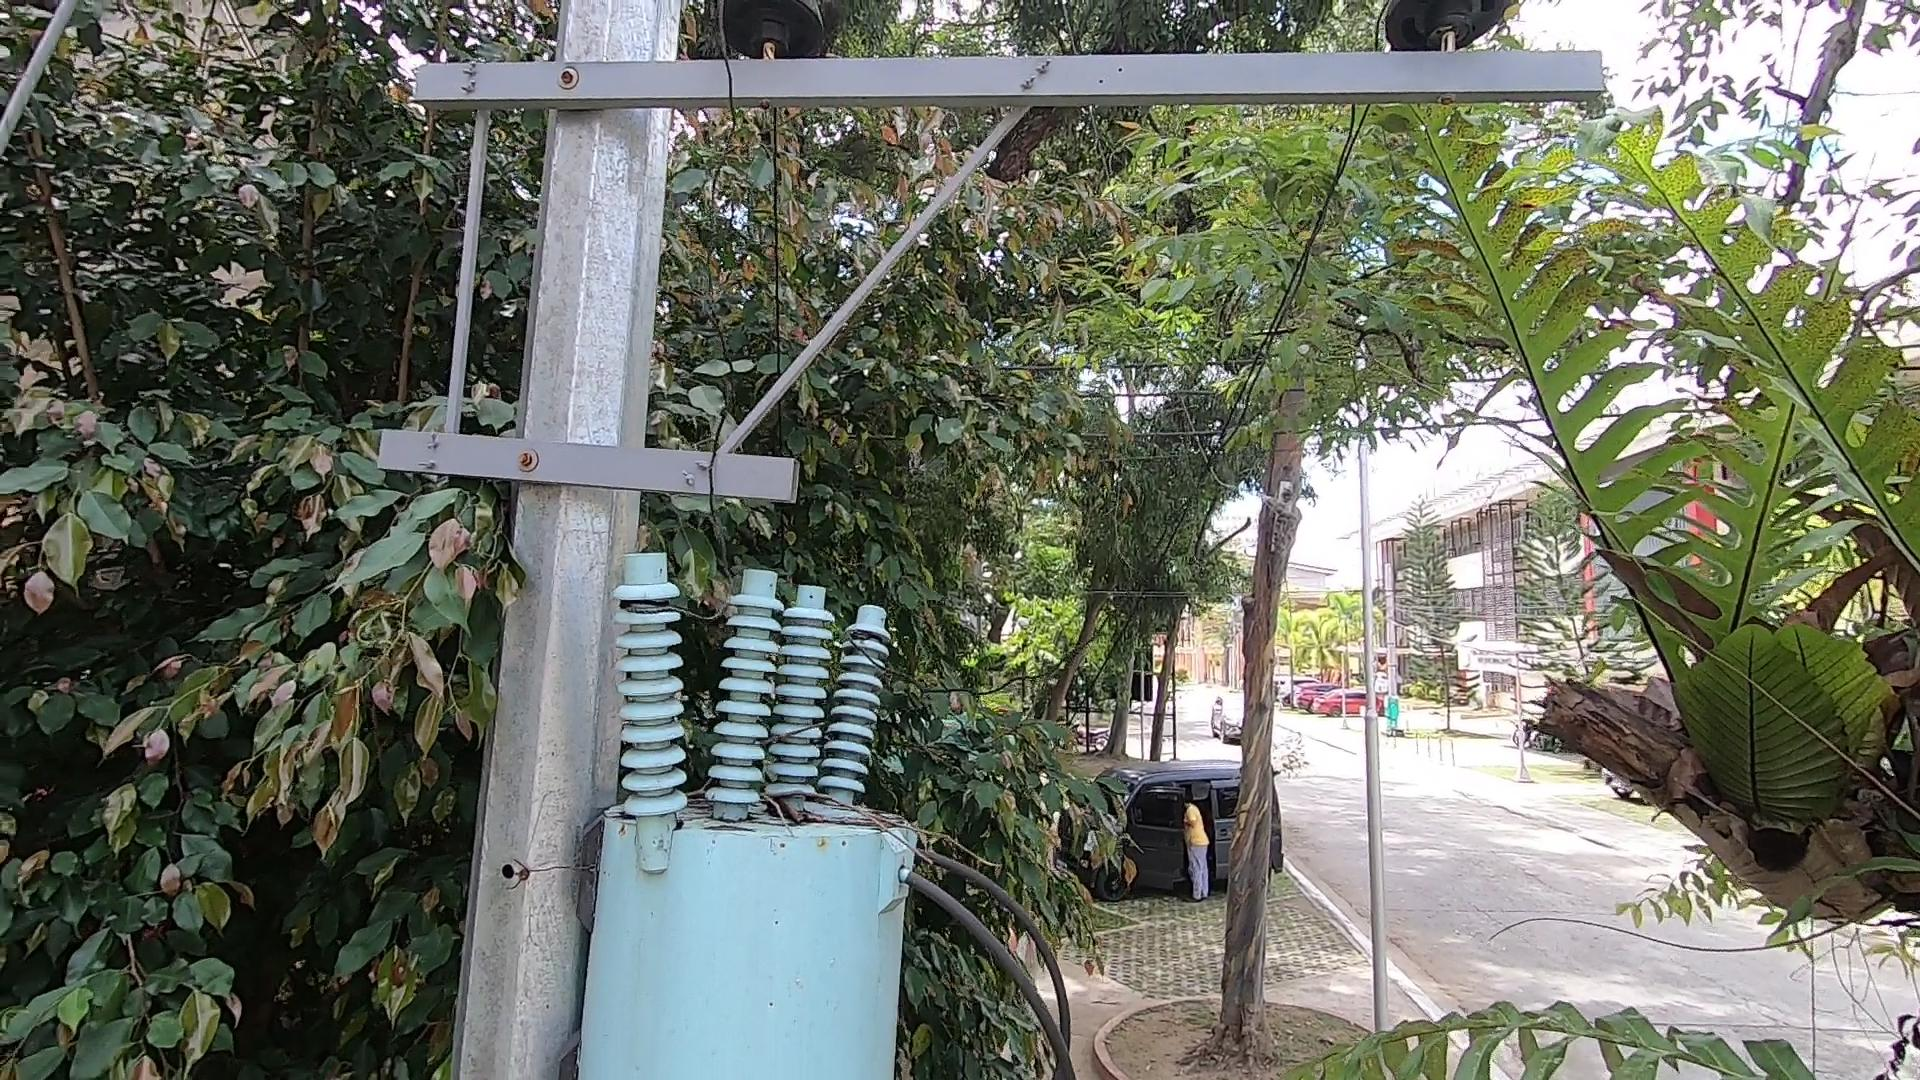leaf: (754, 789, 815, 833)
tree branch: (680, 766, 1010, 899)
